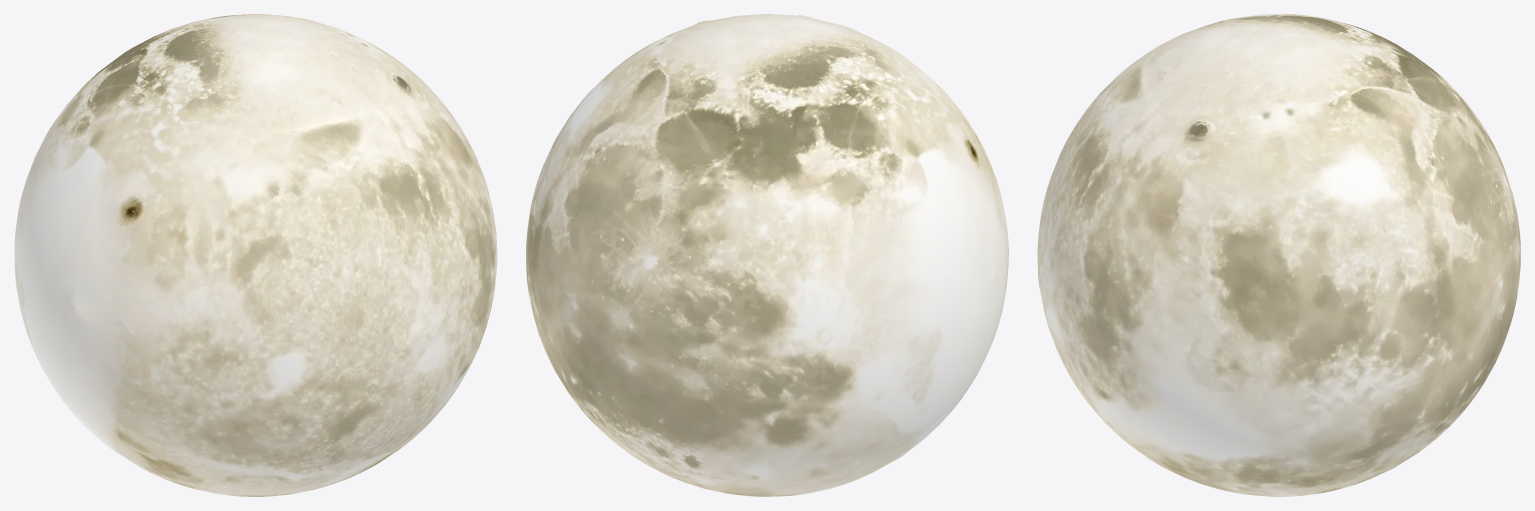
File: real-moon.glb
The picture shows the model from 3 angles, left to right: view 1: azimuth 30°, elevation 25°; view 2: azimuth 150°, elevation 25°; view 3: azimuth 270°, elevation 25°; orthographic projection.
Size of the model in its own units: 1.9 by 1.89 by 1.9.
1 material, 1 textured.
